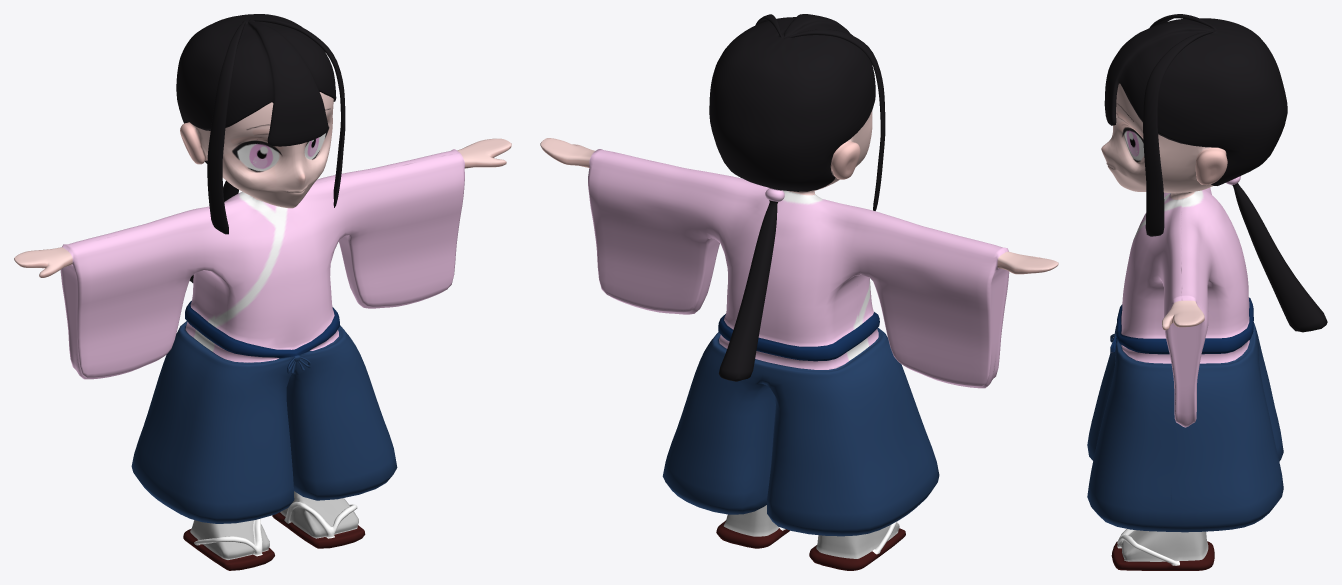
Rendered from Team_E_Player.fbx.
3 renders of one model, left to right at view 1: azimuth 30°, elevation 25°; view 2: azimuth 150°, elevation 25°; view 3: azimuth 270°, elevation 25°, orthographic. The views are drawn at different scales.
Visible parts, largest first — view 1: flont_hair4; view 2: flont_hair4; view 3: flont_hair4.
Part boxes in pixels (x1,y1,x2,y2): flont_hair4: (14, 14, 511, 570); flont_hair4: (540, 14, 1058, 570); flont_hair4: (1087, 14, 1327, 570).
Size of the model in its own units: 0.4097 by 0.4006 by 0.1701.
1 material, 1 textured.
